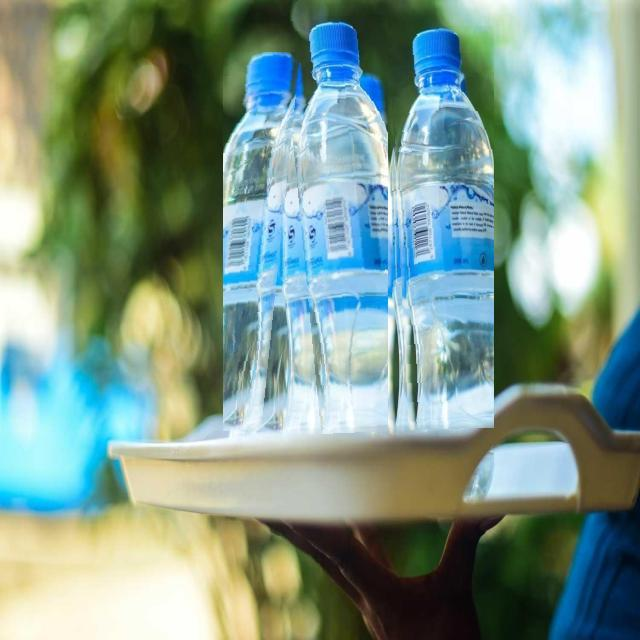plastic bottle: (281, 16, 388, 434), (388, 26, 494, 430), (224, 52, 302, 435)
